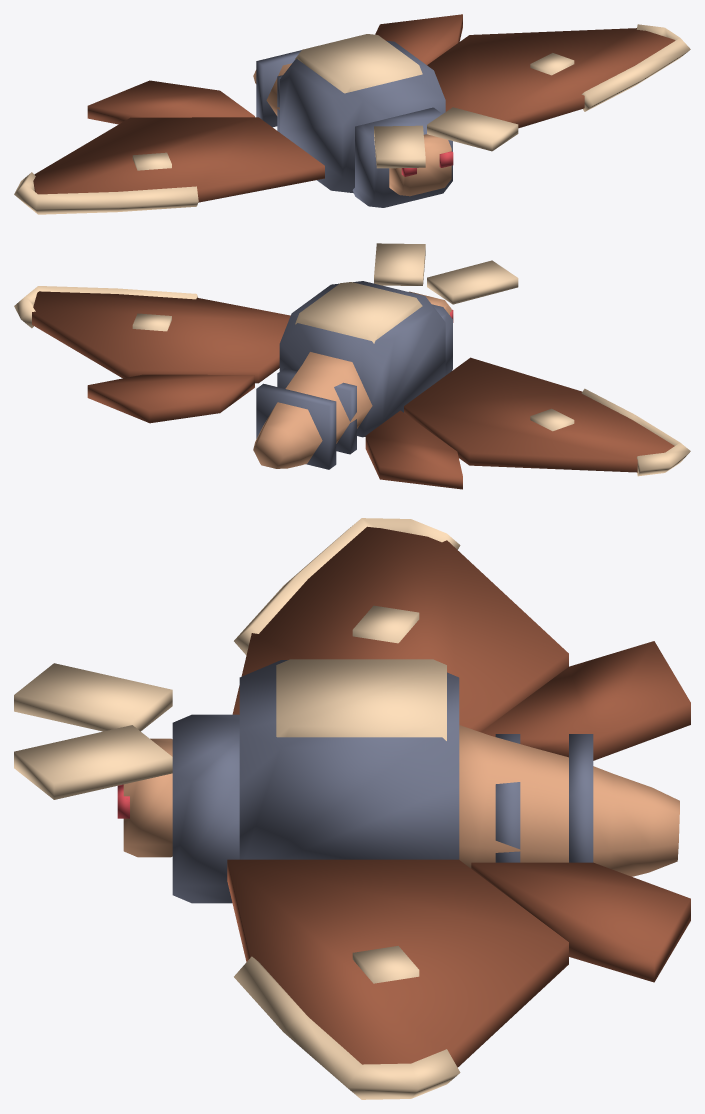
Rendered from moth.glb.
The picture shows the model from 3 angles, top to bottom: view 1: azimuth 30°, elevation 25°; view 2: azimuth 150°, elevation 25°; view 3: azimuth 270°, elevation 25°; orthographic projection. The views are drawn at different scales.
Parts seen in each view (by area): view 1: body, wing-r, wing-l; view 2: body, wing-r, wing-l; view 3: body, wing-l, wing-r.
Part boxes in pixels (box(x1,y1,x2,y2)): body: box(253, 34, 518, 207); wing-r: box(14, 80, 324, 214); wing-l: box(375, 14, 690, 128); body: box(253, 243, 518, 469); wing-r: box(365, 357, 690, 489); wing-l: box(14, 286, 290, 423); body: box(14, 659, 679, 903); wing-l: box(227, 859, 690, 1099); wing-r: box(232, 518, 690, 760).
Size of the model in its own units: 0.2171 by 0.0335 by 0.111.
